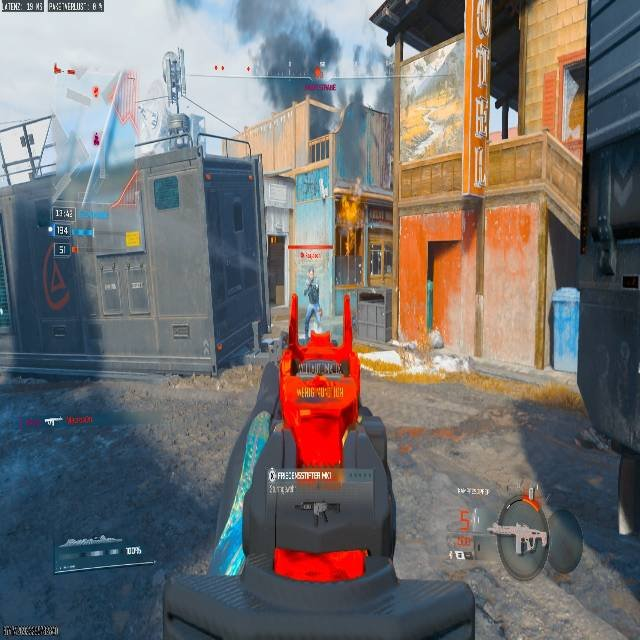head: (305, 263, 317, 278), (306, 269, 314, 280)
player: (302, 270, 322, 334)
